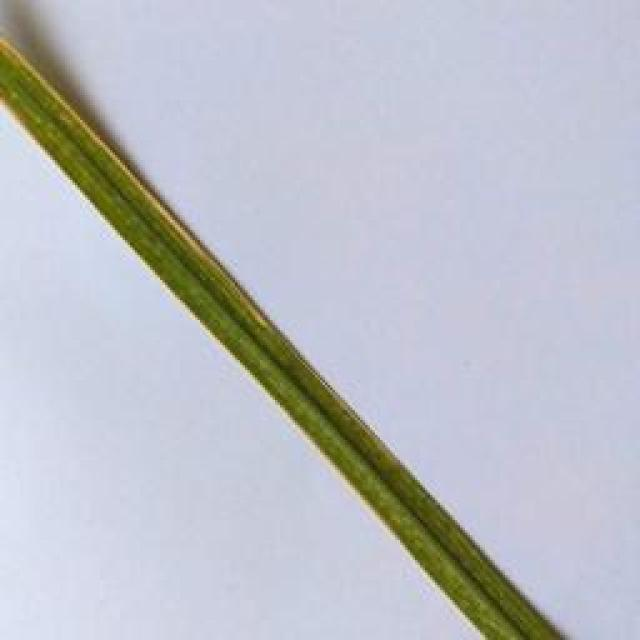Bacterial_Blight: (5, 33, 254, 305)
